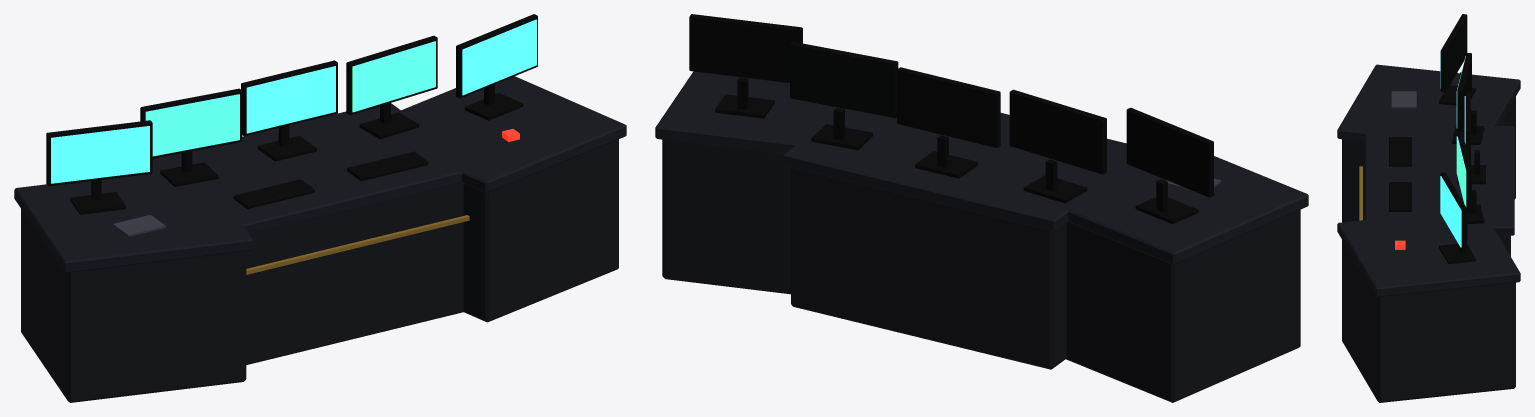
File: security_desk.glb
The picture shows the model from 3 angles, left to right: view 1: azimuth 30°, elevation 25°; view 2: azimuth 150°, elevation 25°; view 3: azimuth 270°, elevation 25°; orthographic projection. The views are drawn at different scales.
Parts seen in each view (by area): view 1: security_desk; view 2: security_desk; view 3: security_desk.
Boxes of the visible parts, x1,y1,x2,y2 form: security_desk: [14, 14, 626, 402]; security_desk: [655, 14, 1308, 402]; security_desk: [1337, 14, 1520, 402].
Bounding box in the file's own units: 2.97 × 1.13 × 1.03.
